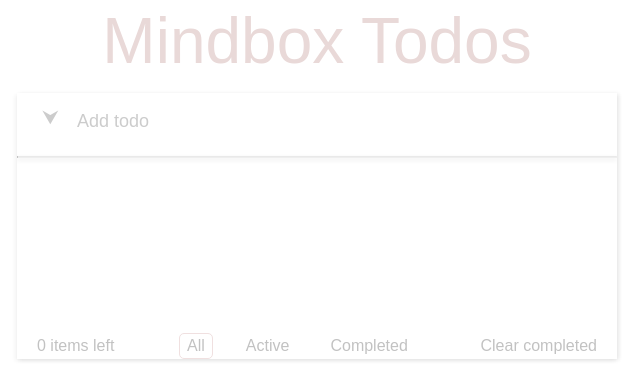
Test case: Card Component › должен добавлять новую задачу
Type "Test Task" into the field with placeholder "Add todo".
click(317, 117); type("Test Task")  # box [17, 101, 617, 133]
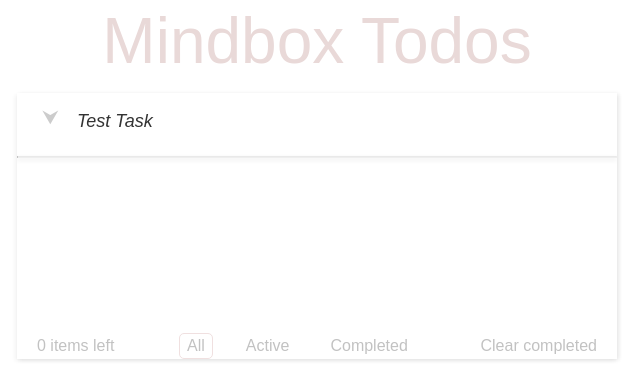
Submit the form with placeholder "Add todo", box [17, 93, 617, 141]
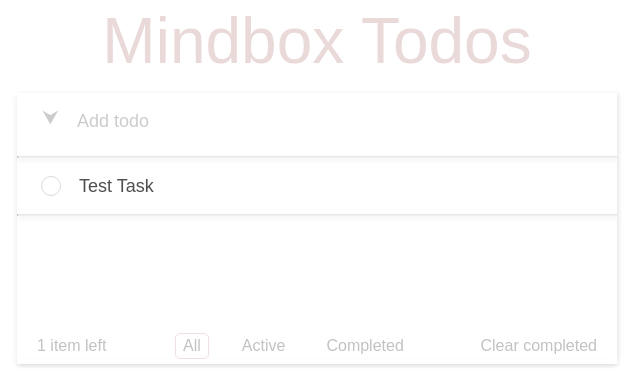
Expected: the text "Test Task" is shown, [79, 176, 154, 196]
